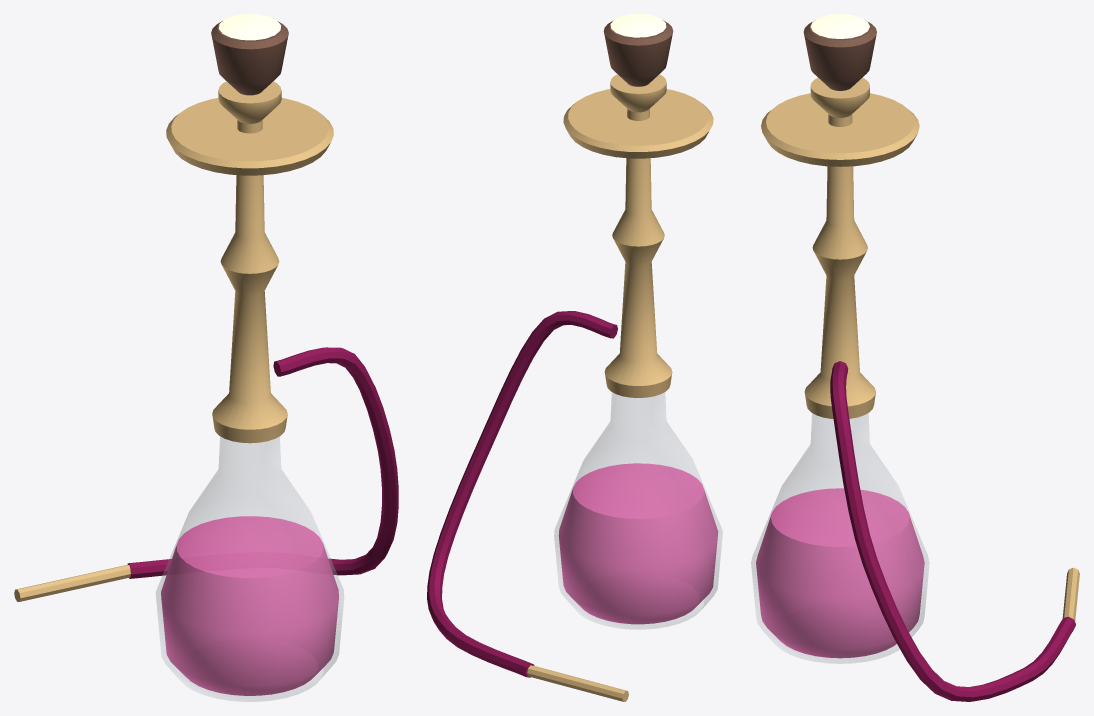
The model's file is KIT_Narguile.glb.
3 views of the same model, side by side, from view 1: azimuth 30°, elevation 25°; view 2: azimuth 150°, elevation 25°; view 3: azimuth 270°, elevation 25° (orthographic). The views are drawn at different scales.
Visible parts, largest first — view 1: KIT_Narguile; view 2: KIT_Narguile; view 3: KIT_Narguile.
Part boxes in pixels (left/top/right/bottom): KIT_Narguile: left=14, top=14, right=398, bottom=701; KIT_Narguile: left=427, top=14, right=722, bottom=701; KIT_Narguile: left=751, top=14, right=1079, bottom=701.
Bounding box in the file's own units: 0.3202 × 0.684 × 0.3315.
